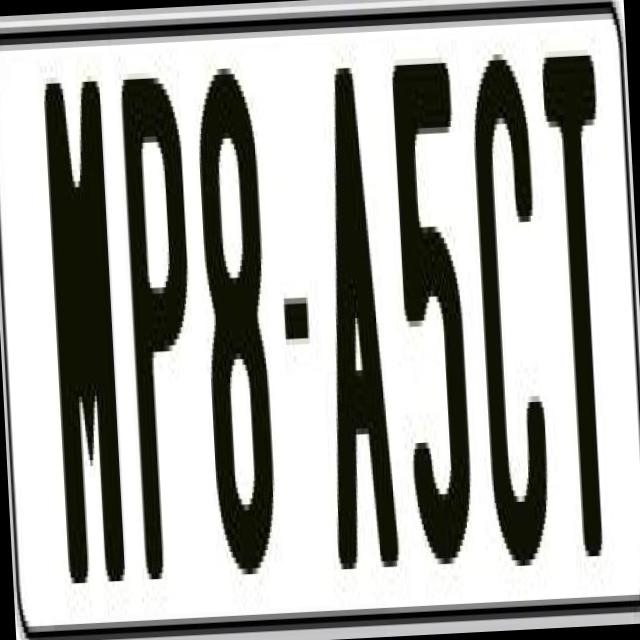5: (388, 51, 481, 560)
8: (194, 61, 280, 594)
A: (310, 61, 395, 564)
C: (469, 47, 554, 561)
M: (43, 75, 130, 607)
P: (116, 76, 208, 610)
T: (540, 38, 628, 558)
